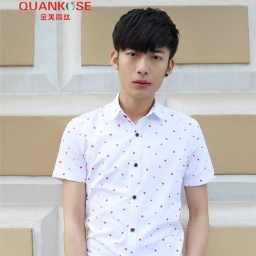face: (112, 6, 180, 96)
